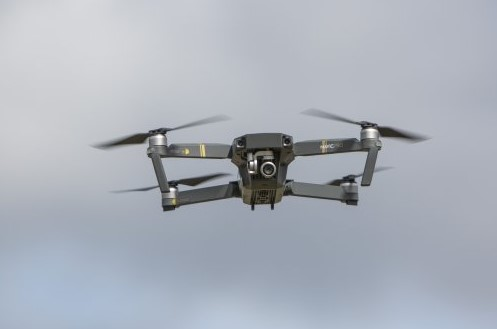drone: (94, 106, 427, 211)
